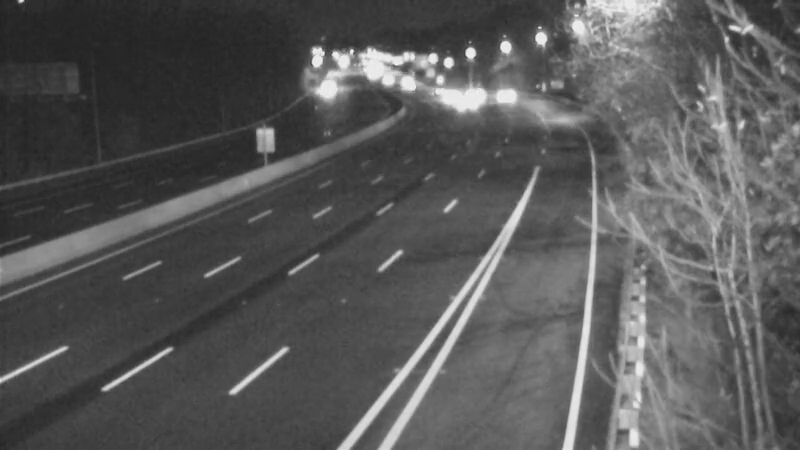vehicle: (451, 70, 501, 120), (478, 71, 528, 121), (439, 76, 489, 126)
